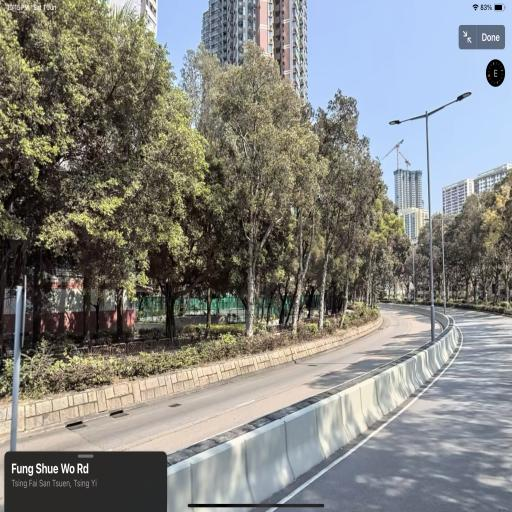Roads: (55, 298, 503, 492)
Trees: (189, 34, 416, 340), (14, 1, 185, 334)
